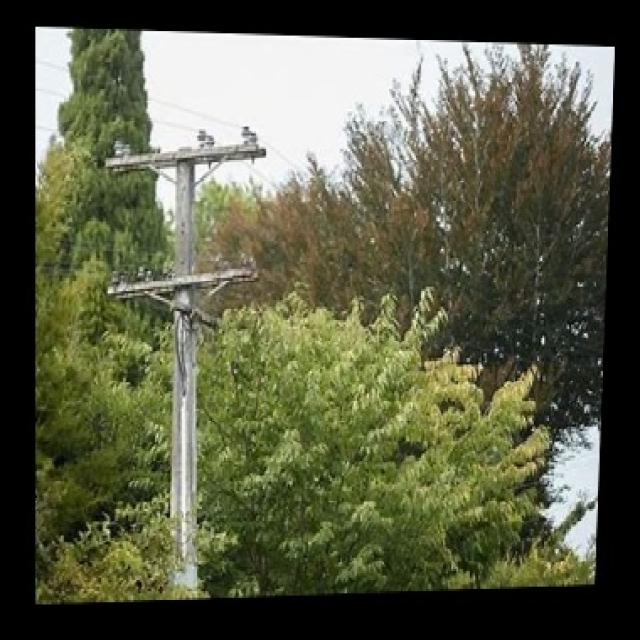utility poles: (107, 97, 262, 595)
